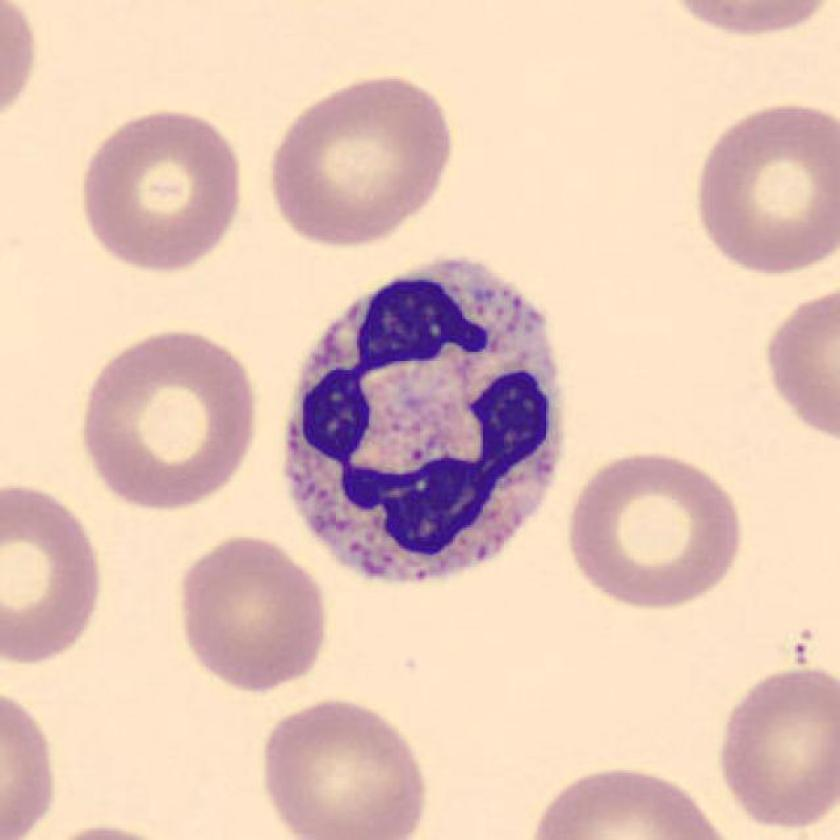neutrophil: (287, 256, 567, 579)
